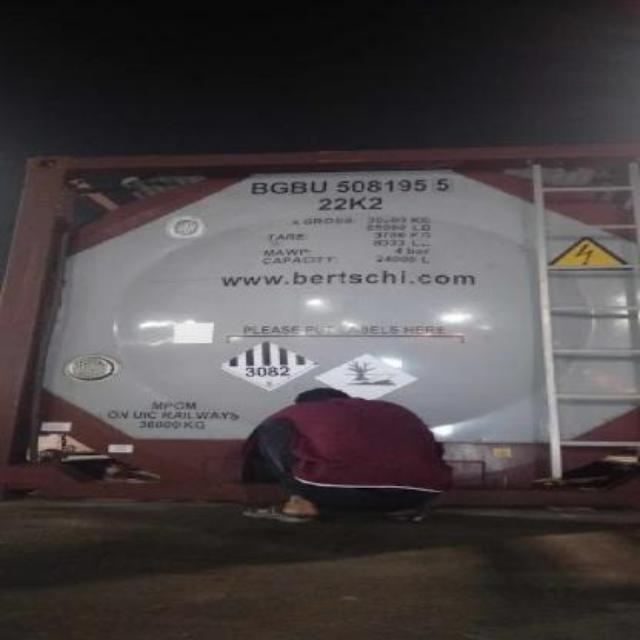0: (351, 177, 364, 193)
1: (378, 174, 396, 196)
5: (430, 174, 454, 196), (410, 174, 426, 196), (332, 176, 350, 194)
8: (364, 174, 382, 196)
9: (396, 175, 409, 198)
B: (288, 173, 308, 199), (250, 178, 270, 200)
G: (268, 179, 288, 199)
U: (306, 176, 330, 198)
